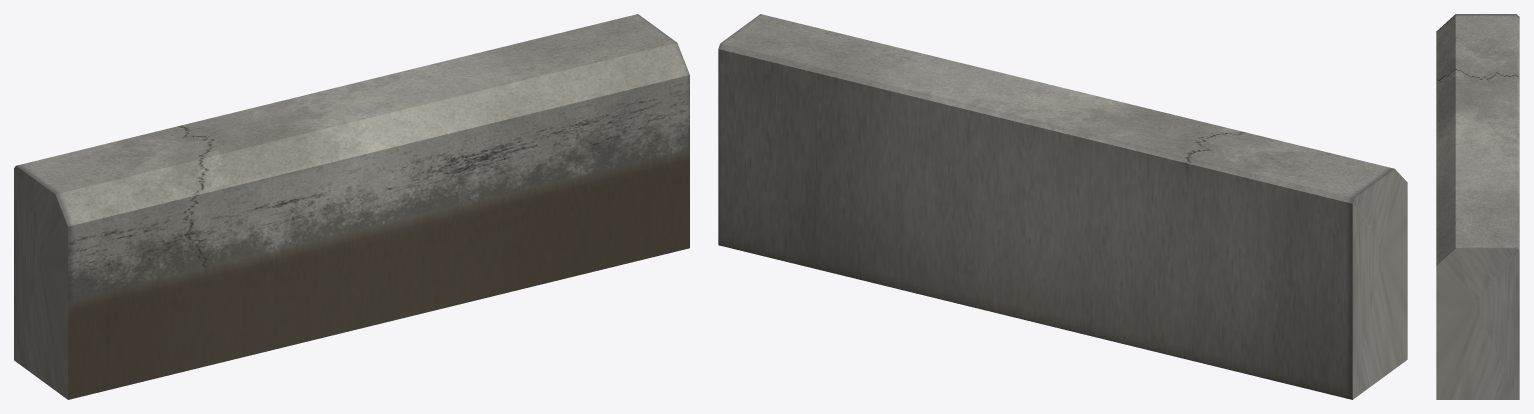
File: curb_broken_lod1_web.glb
3 views of the same model, side by side, from view 1: azimuth 30°, elevation 25°; view 2: azimuth 150°, elevation 25°; view 3: azimuth 270°, elevation 25° (orthographic). The views are drawn at different scales.
Parts seen in each view (by area): view 1: curb_broken_Mesh; view 2: curb_broken_Mesh; view 3: curb_broken_Mesh.
Boxes of the visible parts, bbox=[...] form: curb_broken_Mesh: bbox=[14, 14, 689, 399]; curb_broken_Mesh: bbox=[718, 14, 1407, 399]; curb_broken_Mesh: bbox=[1436, 14, 1519, 399].
Bounding box in the file's own units: 0.995 × 0.3 × 0.15.
1 material, 1 textured.
